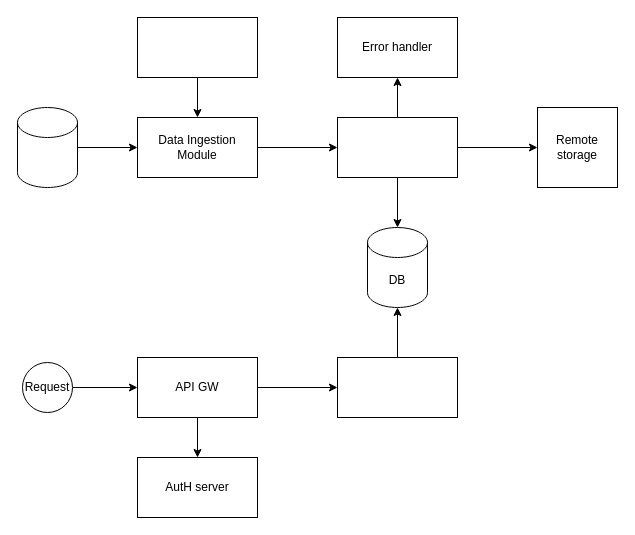
Image size: 635x535. Some labels were removed from this diagram. Here are the shapes that lost their labels. From the top down, the centre of each, then its label:
(x=197, y=47): Scheduler
(x=47, y=147): Dataset
(x=397, y=147): Data Processing Module
(x=397, y=387): API
